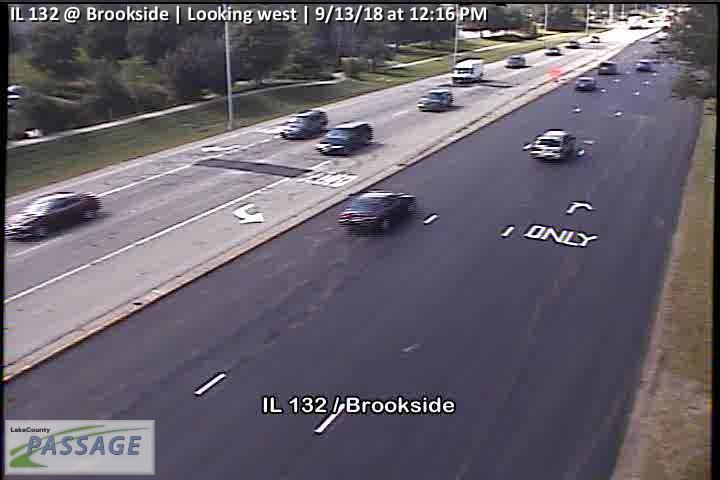SUV: (315, 119, 373, 157), (525, 129, 575, 161), (280, 109, 327, 140), (575, 74, 596, 91), (598, 61, 616, 74)
Sedan: (5, 189, 103, 243), (337, 191, 416, 234), (417, 87, 453, 111), (637, 58, 663, 72), (505, 54, 525, 68), (544, 46, 559, 55)
Truck: (453, 59, 483, 82)
